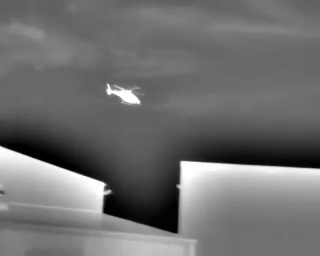HELICOPTER: (103, 77, 151, 114)
